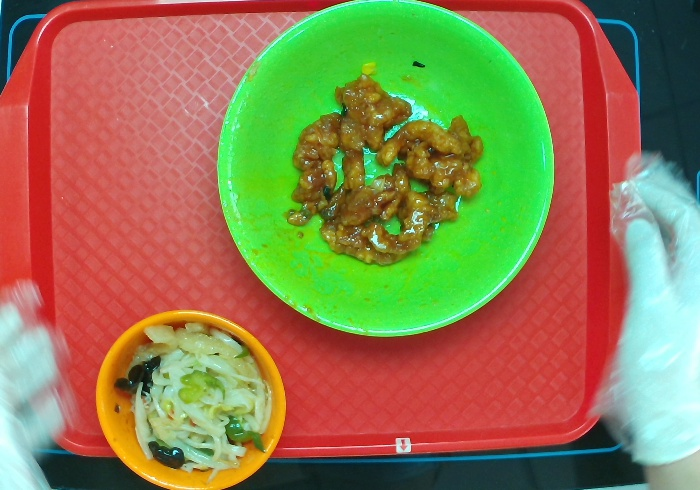YKMZ-Ju_Se_Yuan_Wan: (90, 305, 290, 487)
YKMZ-Lv_Se_Tang_Wan: (212, 1, 559, 341)
